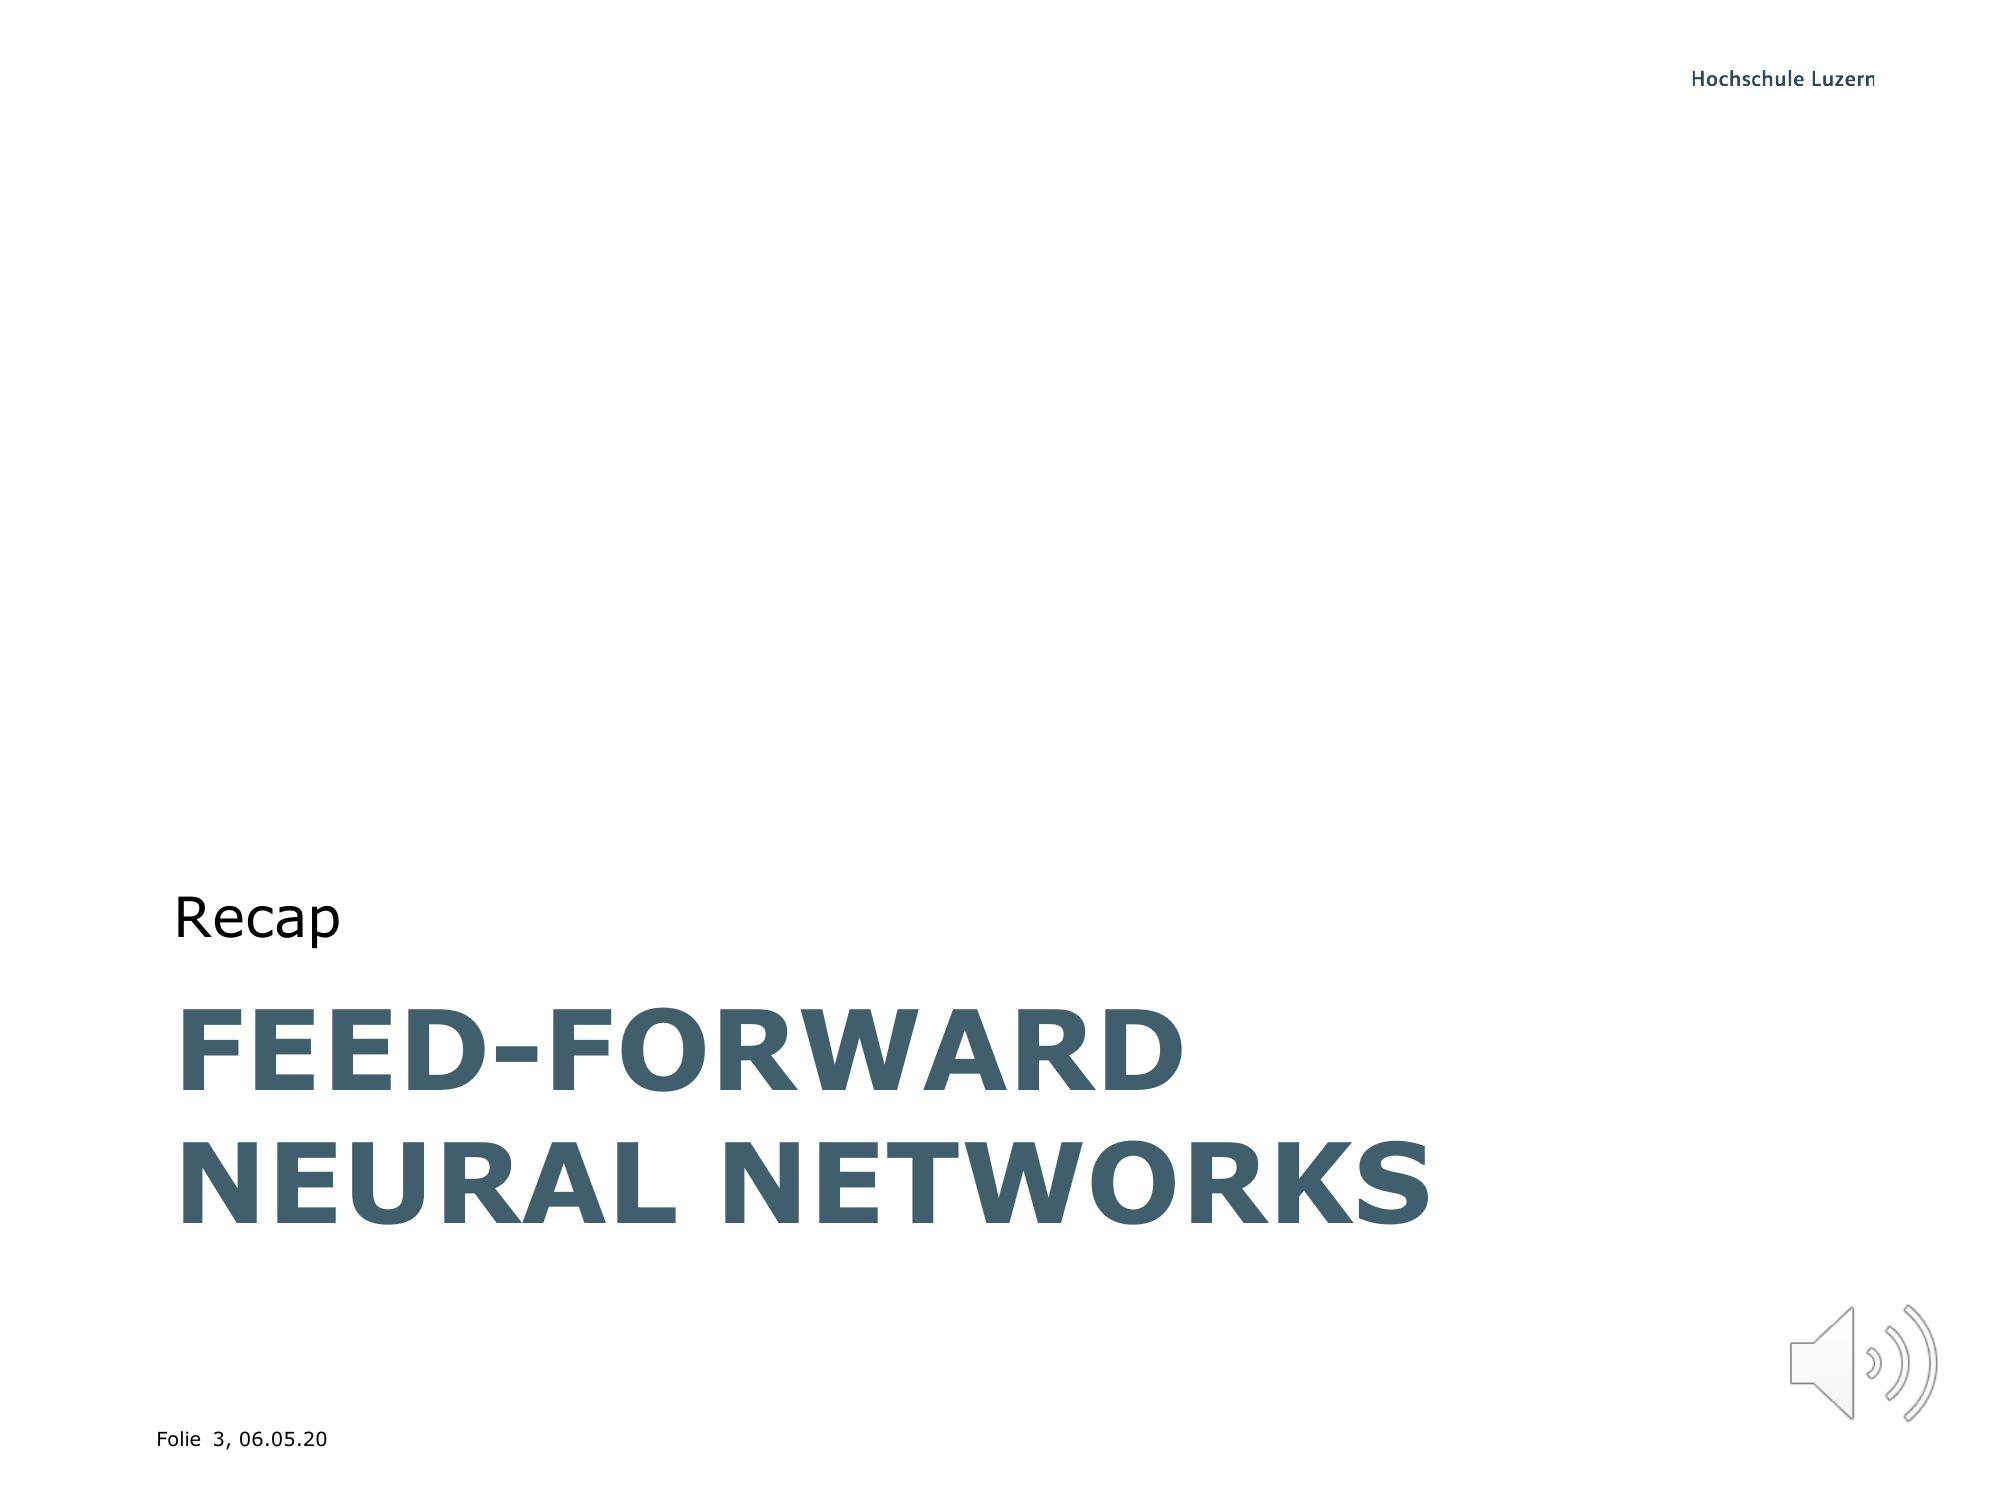Title: (165, 993, 1444, 1262)
